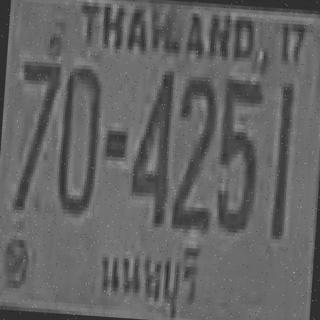N00: (54, 62, 102, 213)
N01: (269, 83, 292, 236)
N02: (170, 72, 217, 230)
N04: (126, 65, 174, 224)
N05: (213, 75, 262, 230)
N07: (12, 57, 61, 208)
P37: (90, 226, 208, 320)
